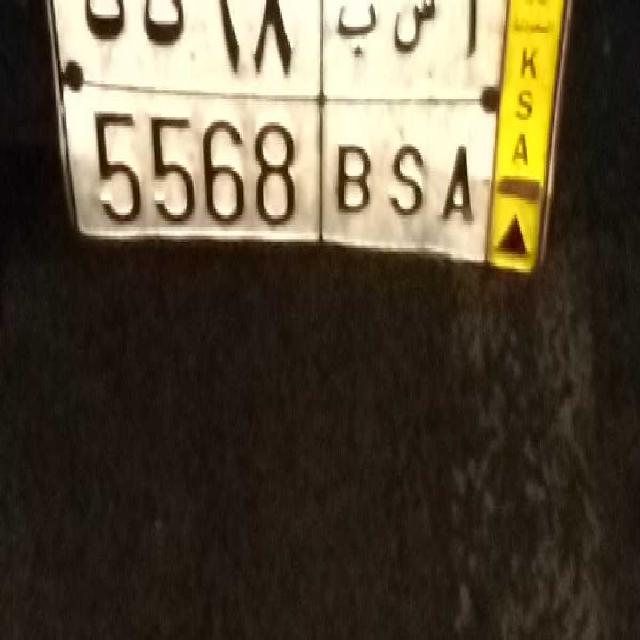license_plate: (82, 80, 484, 304)
